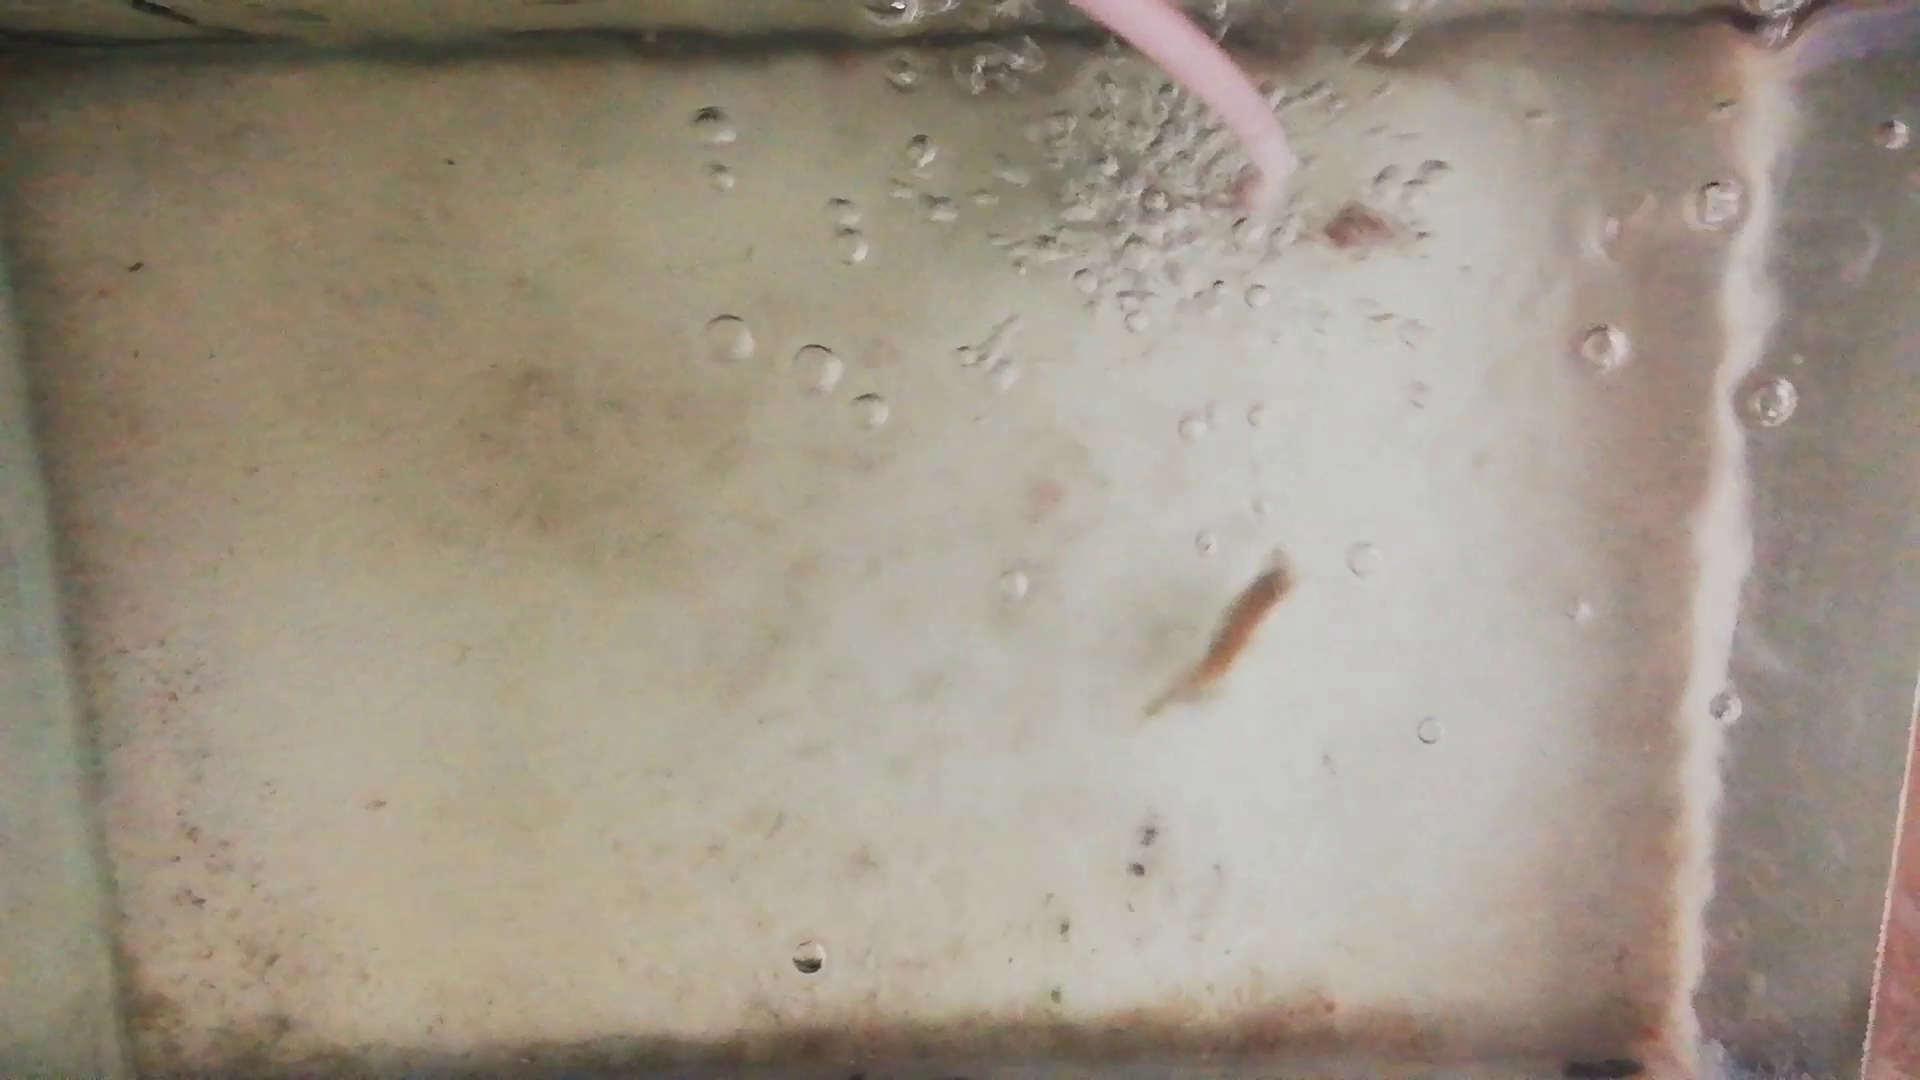fish: (1163, 553, 1294, 713), (1325, 200, 1425, 253)
